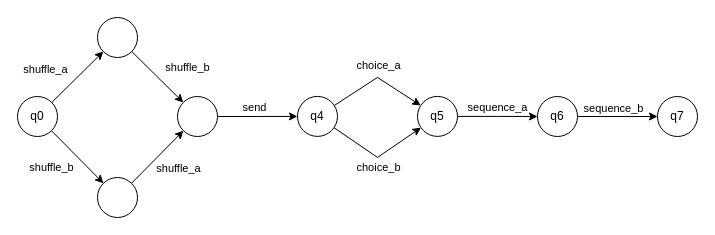
Image size: 715x235. Some labels were removed from this diagram. Each missing label, with the centre of its shape:
q1: [117,37]
q2: [117,197]
q3: [197,116]
